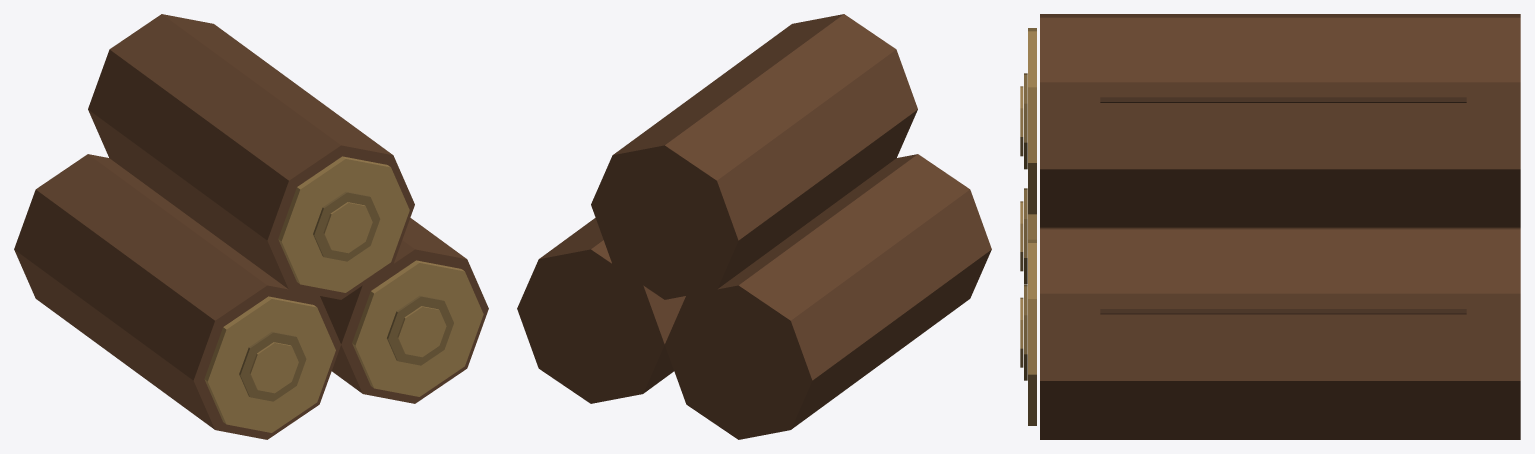
Rendered from logs.glb.
3 views of the same model, side by side, from view 1: azimuth 30°, elevation 25°; view 2: azimuth 150°, elevation 25°; view 3: azimuth 270°, elevation 25° (orthographic). The views are drawn at different scales.
Parts seen in each view (by area): view 1: logs; view 2: logs; view 3: logs.
Part boxes in pixels (x1,y1,x2,y2): logs: (14, 14, 488, 439); logs: (517, 14, 991, 439); logs: (1020, 14, 1520, 439).
Bounding box in the file's own units: 0.9124 × 0.8163 × 1.
